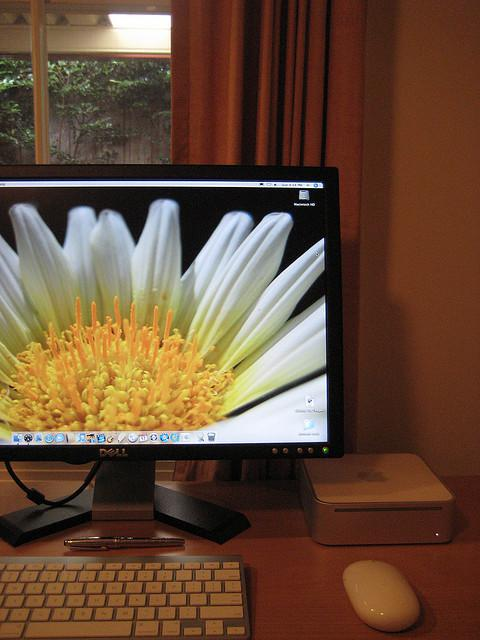tv: (7, 173, 332, 457)
